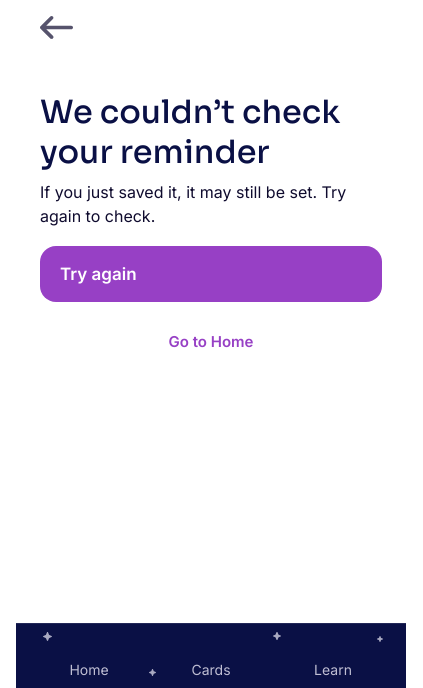
it: ReminderSavedCheck › ends a load that throws on a screen with a retry, never on Checking
Expected: the heading "We couldn’t check your reminder" is shown, x1=40 y1=92 x2=382 y2=172
Click the button "Try again" at (98, 274), box x1=40 y1=246 x2=382 y2=302
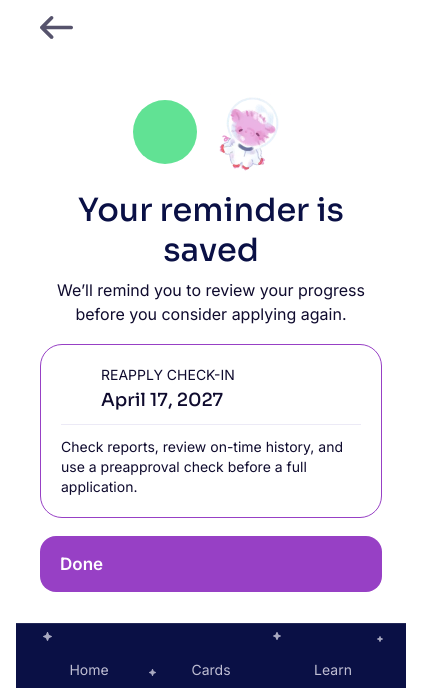
Result: the heading "Your reminder is saved" is shown at x1=78 y1=190 x2=344 y2=270
